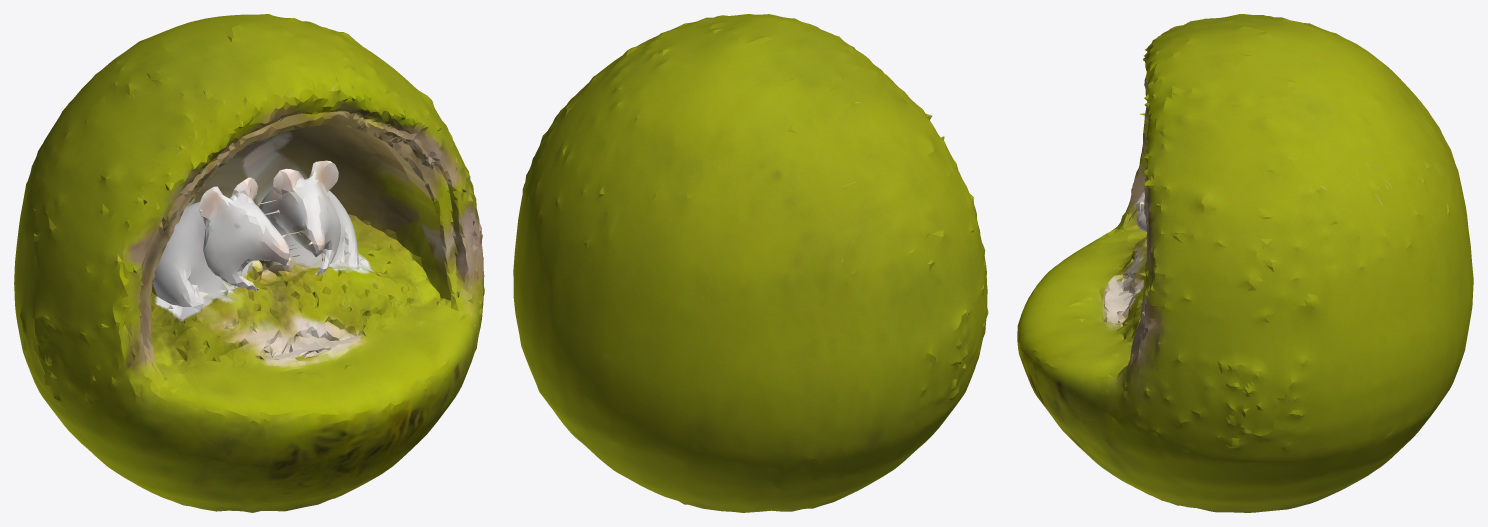
3 renders of one model, left to right at view 1: azimuth 30°, elevation 25°; view 2: azimuth 150°, elevation 25°; view 3: azimuth 270°, elevation 25°, orthographic.
Parts seen in each view (by area): view 1: RestAndRecover; view 2: RestAndRecover; view 3: RestAndRecover.
Part boxes in pixels (bbox=[...]): RestAndRecover: bbox=[14, 14, 484, 512]; RestAndRecover: bbox=[513, 14, 988, 512]; RestAndRecover: bbox=[1017, 14, 1473, 512].
Bounding box in the file's own units: 1.89 × 1.84 × 1.77.
Materials: 1 (1 with a texture image).
